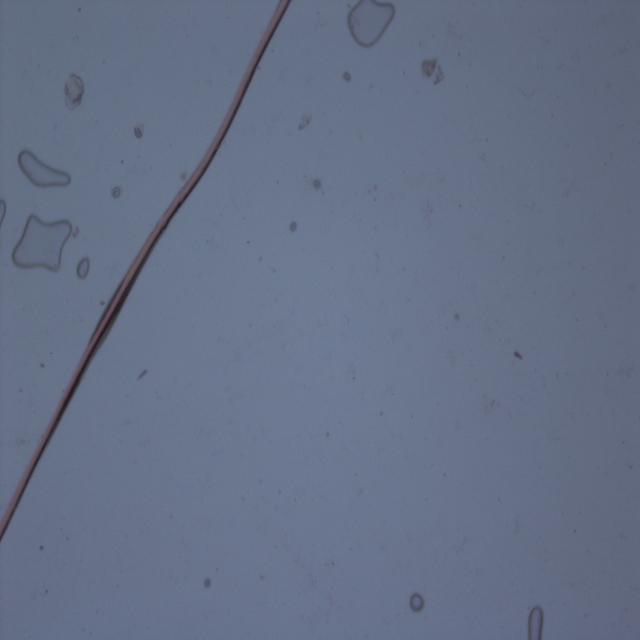Air bubble: (13, 211, 72, 271), (347, 1, 395, 50), (18, 151, 72, 190), (526, 602, 546, 638), (72, 256, 92, 286), (409, 590, 424, 614), (0, 200, 9, 224)
Background material: (58, 70, 88, 117), (418, 59, 446, 87), (307, 173, 324, 195), (297, 111, 312, 135), (132, 121, 146, 142), (109, 183, 125, 200), (340, 70, 352, 84)
Microfibre: (0, 1, 292, 536)
